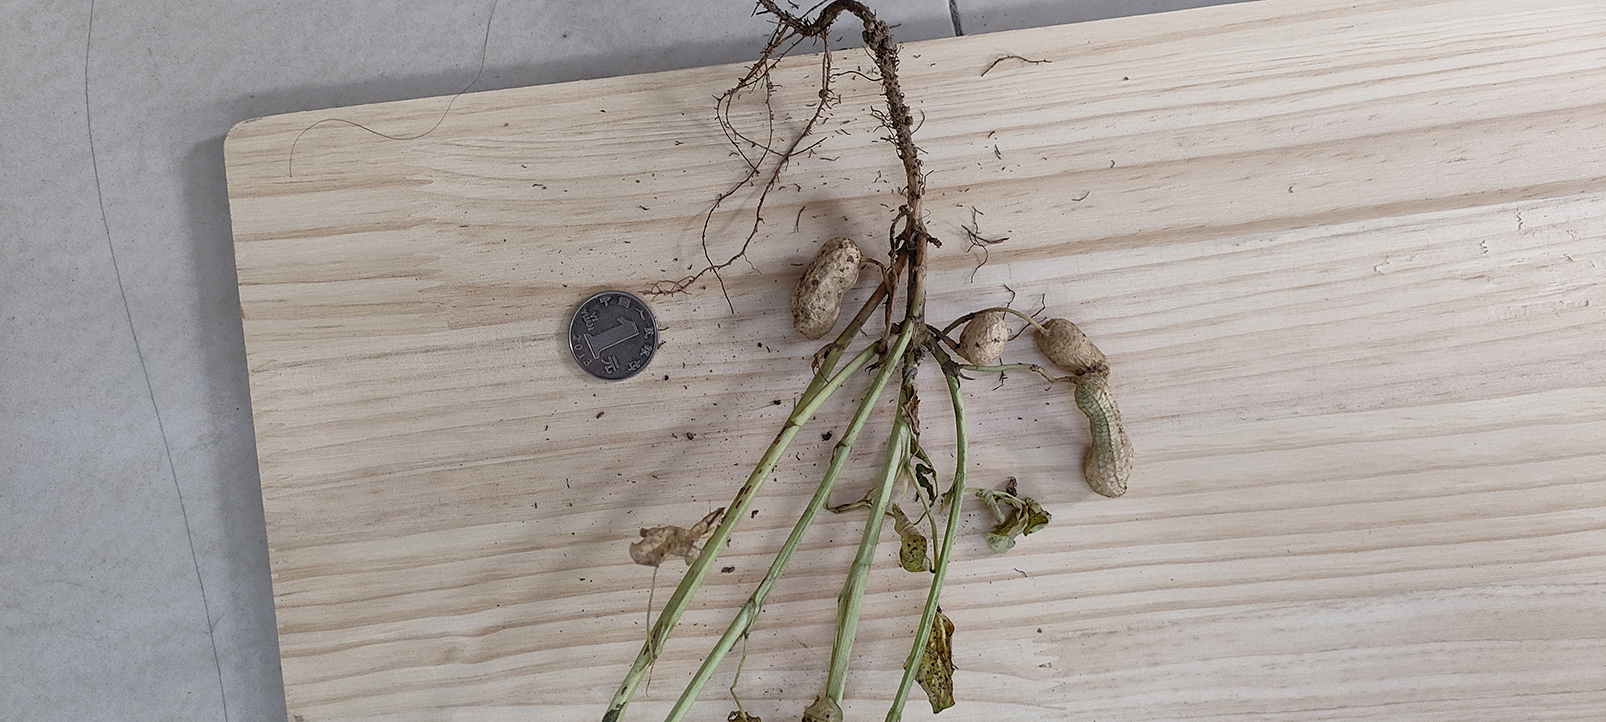h: (790, 237, 863, 340), (1073, 377, 1134, 501), (1036, 317, 1113, 376), (958, 311, 1006, 368)
